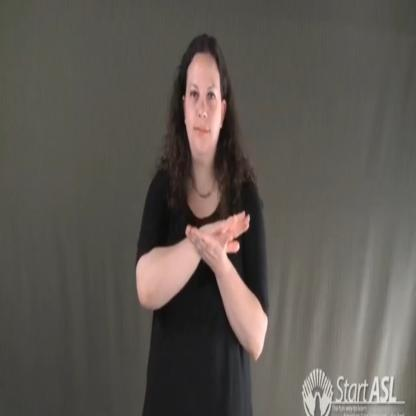NiceToMeetYou: (178, 182, 253, 283)
